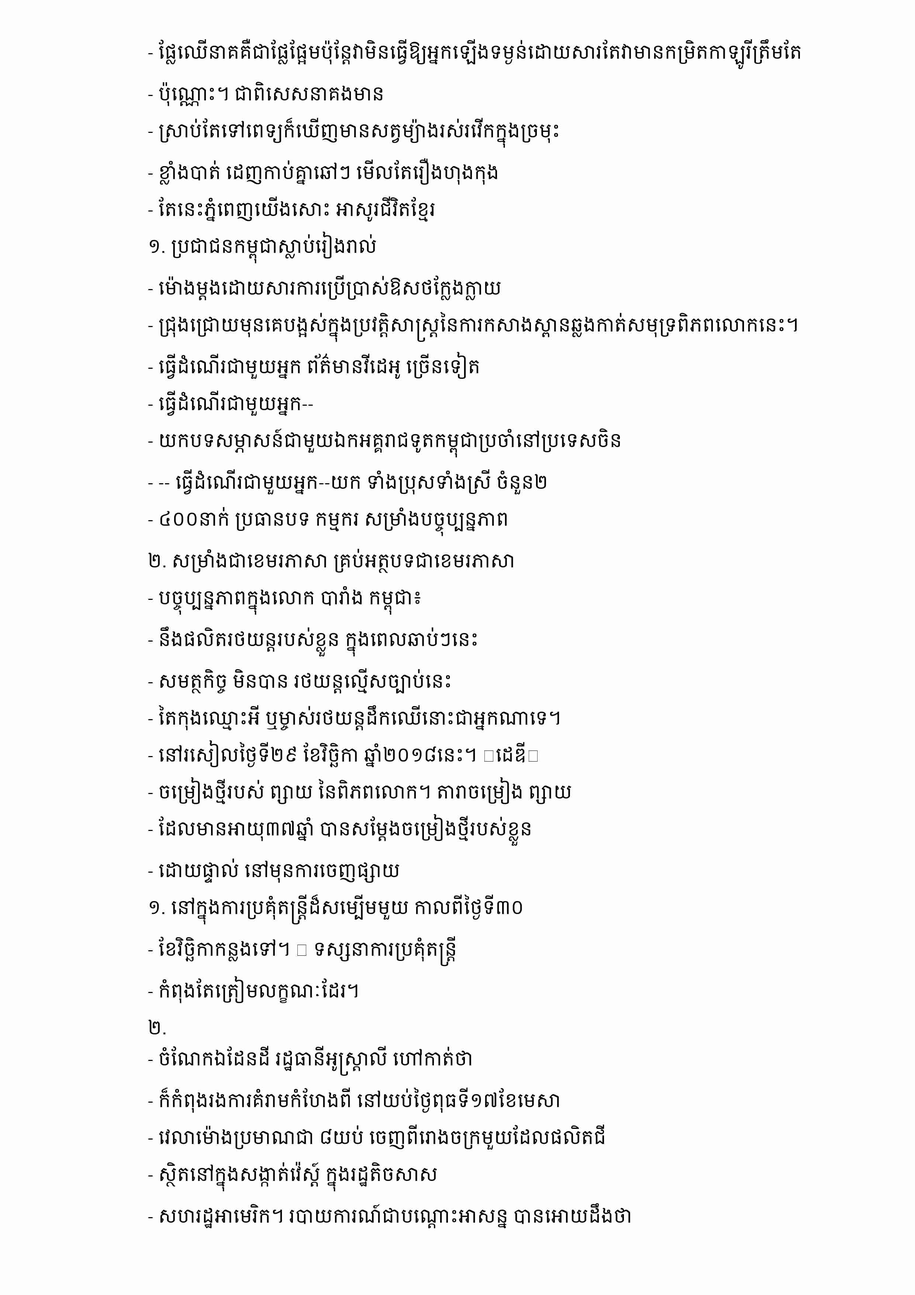text: (148, 39, 807, 69), (148, 312, 804, 342), (148, 428, 627, 458), (148, 1203, 637, 1229), (148, 118, 565, 148), (148, 814, 537, 846), (148, 1124, 611, 1150), (148, 894, 529, 925), (148, 777, 577, 804), (148, 705, 566, 731), (148, 740, 545, 767), (148, 507, 514, 536), (148, 469, 553, 495), (148, 1088, 566, 1113), (148, 626, 483, 657), (148, 1046, 478, 1076), (148, 158, 504, 185), (148, 936, 462, 966), (148, 352, 486, 379), (148, 275, 507, 300), (148, 549, 520, 573), (148, 1162, 443, 1192), (148, 586, 428, 615), (148, 668, 457, 694), (148, 231, 382, 264), (148, 196, 441, 222), (148, 858, 405, 883), (148, 976, 365, 1003), (148, 82, 389, 106), (148, 391, 318, 416), (148, 1020, 172, 1034)
